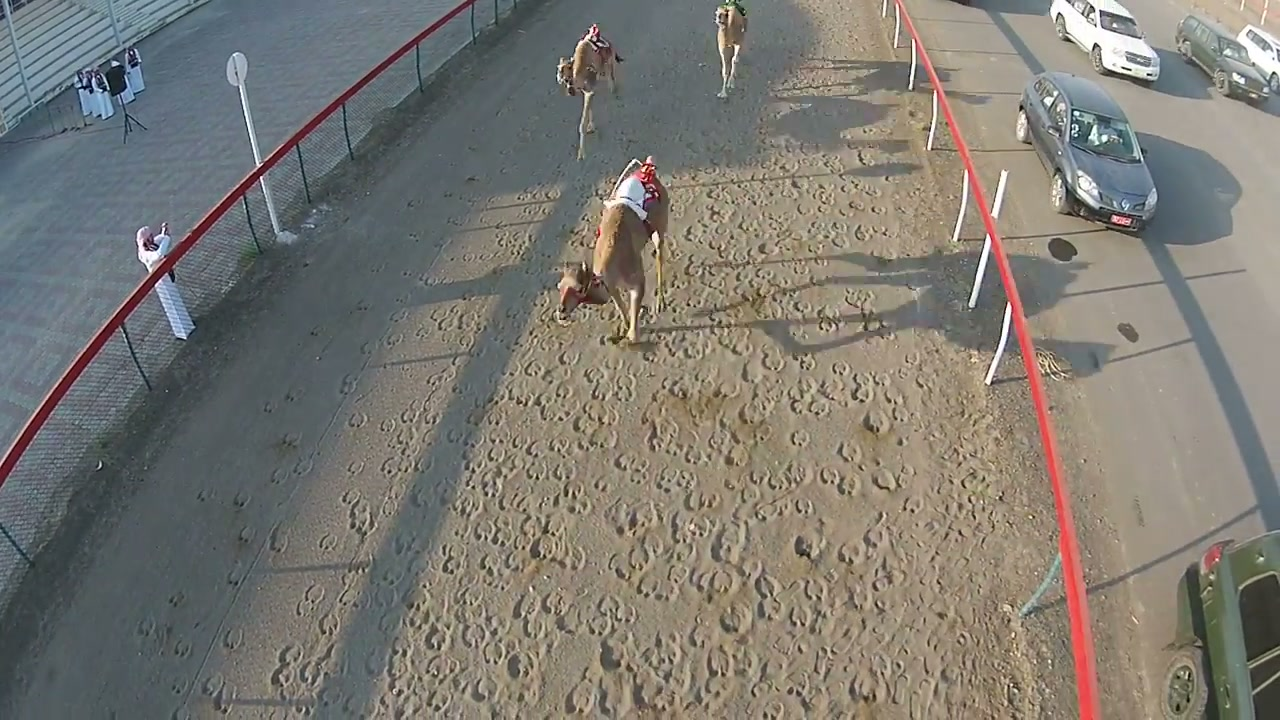animal_footprint: (121, 0, 1069, 717)
